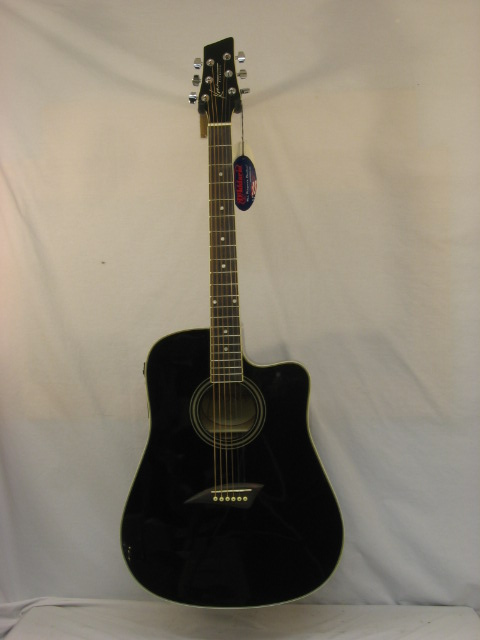guitar: (122, 39, 345, 613)
